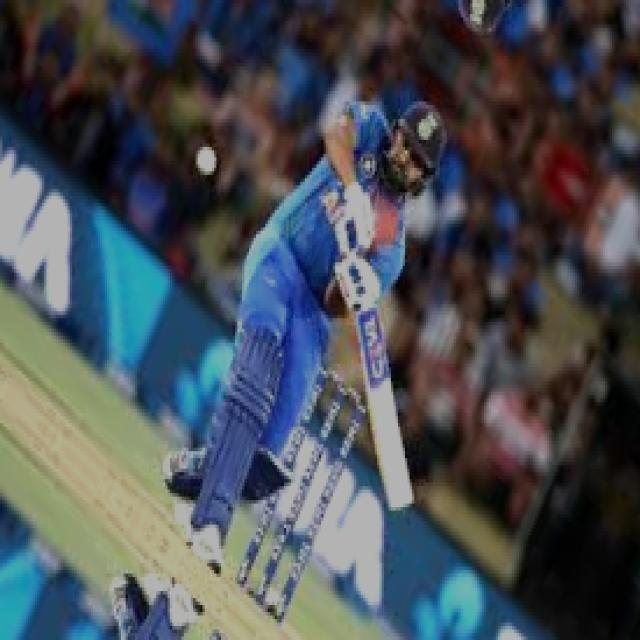toe: (382, 494, 418, 511)
